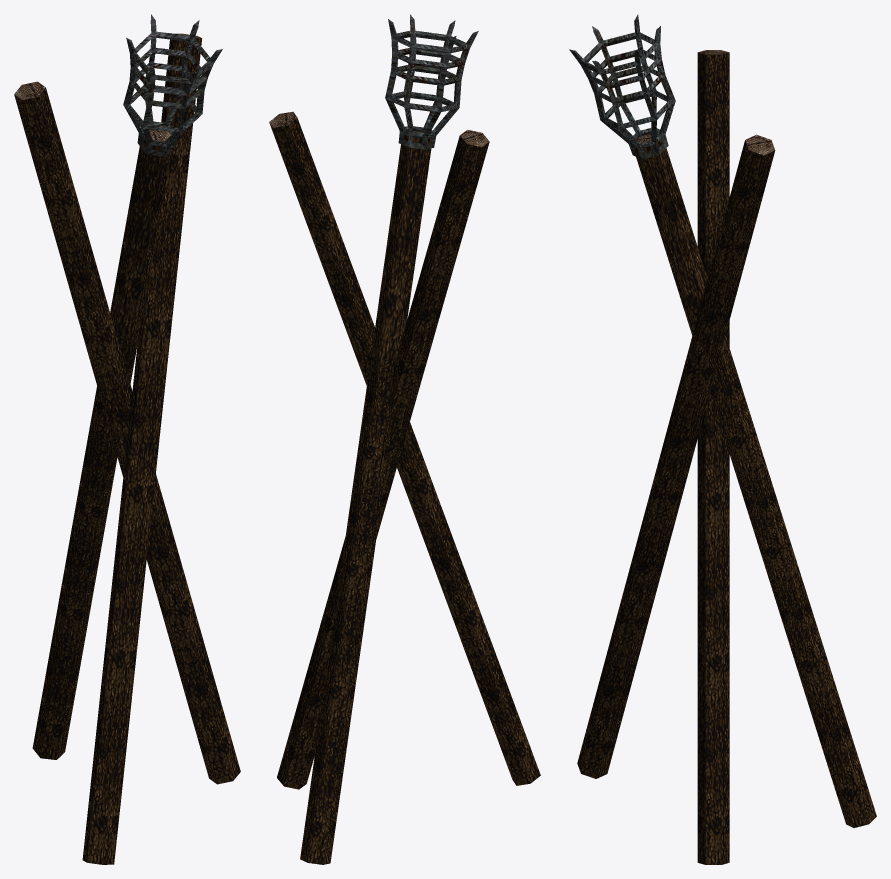
Rendered from Torchlight.fbx.
3 views of the same model, side by side, from view 1: azimuth 30°, elevation 25°; view 2: azimuth 150°, elevation 25°; view 3: azimuth 270°, elevation 25° (orthographic). The views are drawn at different scales.
Visible parts, largest first — view 1: Torchlight; view 2: Torchlight; view 3: Torchlight.
Boxes of the visible parts, <box> form: Torchlight: <box>14,14,240,864</box>; Torchlight: <box>269,14,540,864</box>; Torchlight: <box>569,14,876,864</box>.
Bounding box in the file's own units: 0.5703 × 2.03 × 0.71.
